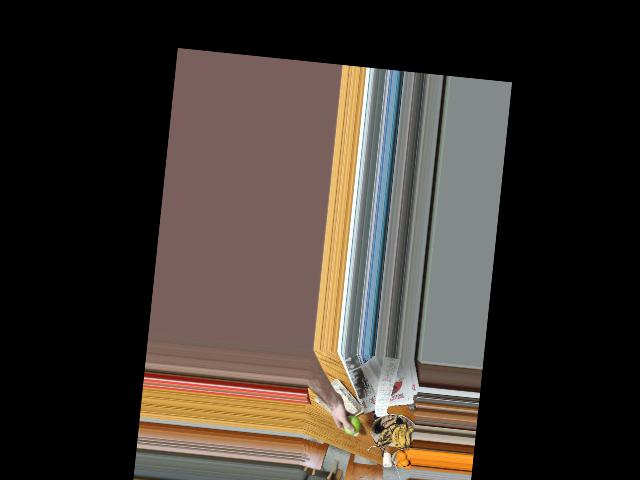apple: (341, 413, 362, 435)
